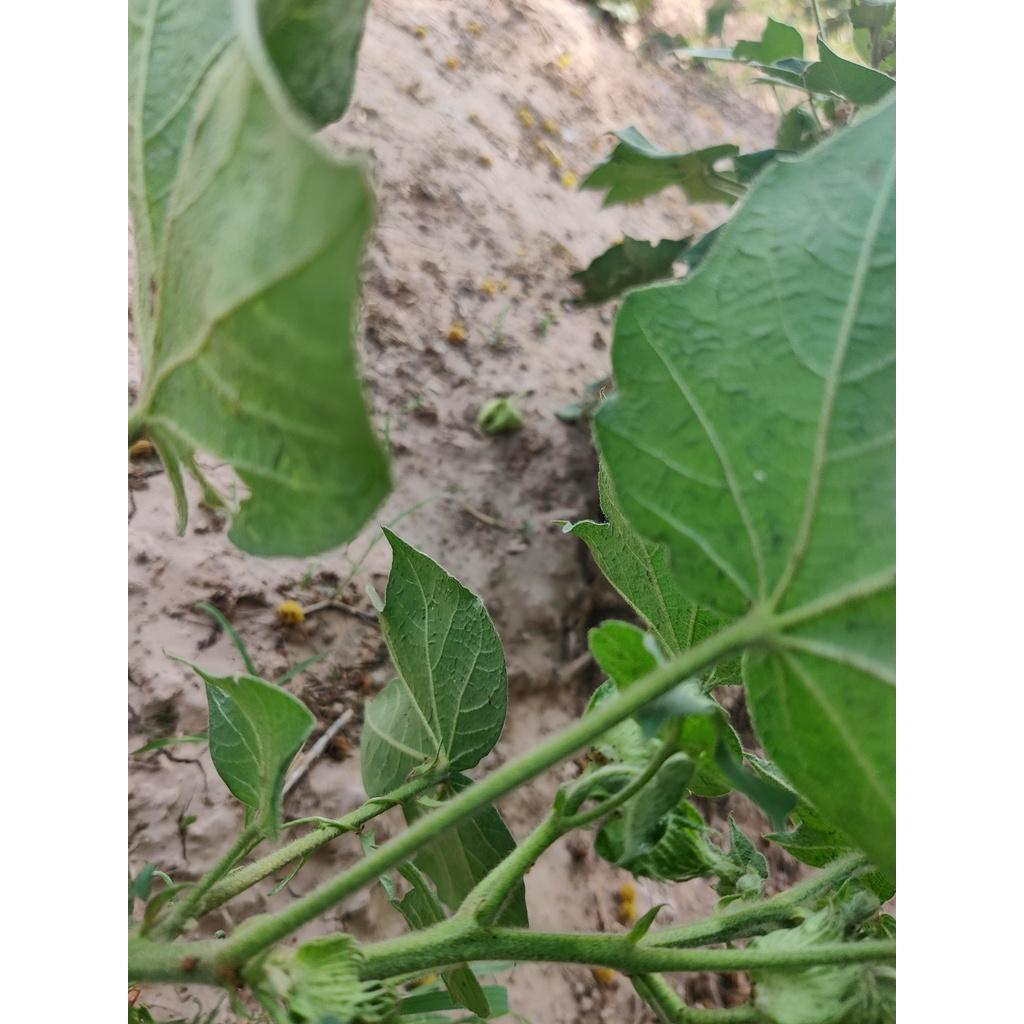adult: (752, 469, 767, 484)
